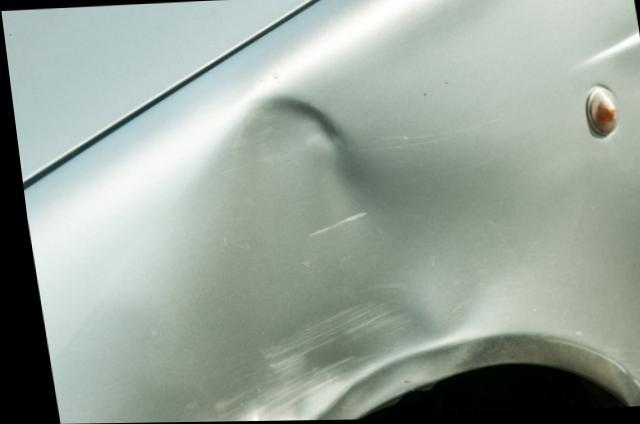dent: (190, 96, 533, 422)
